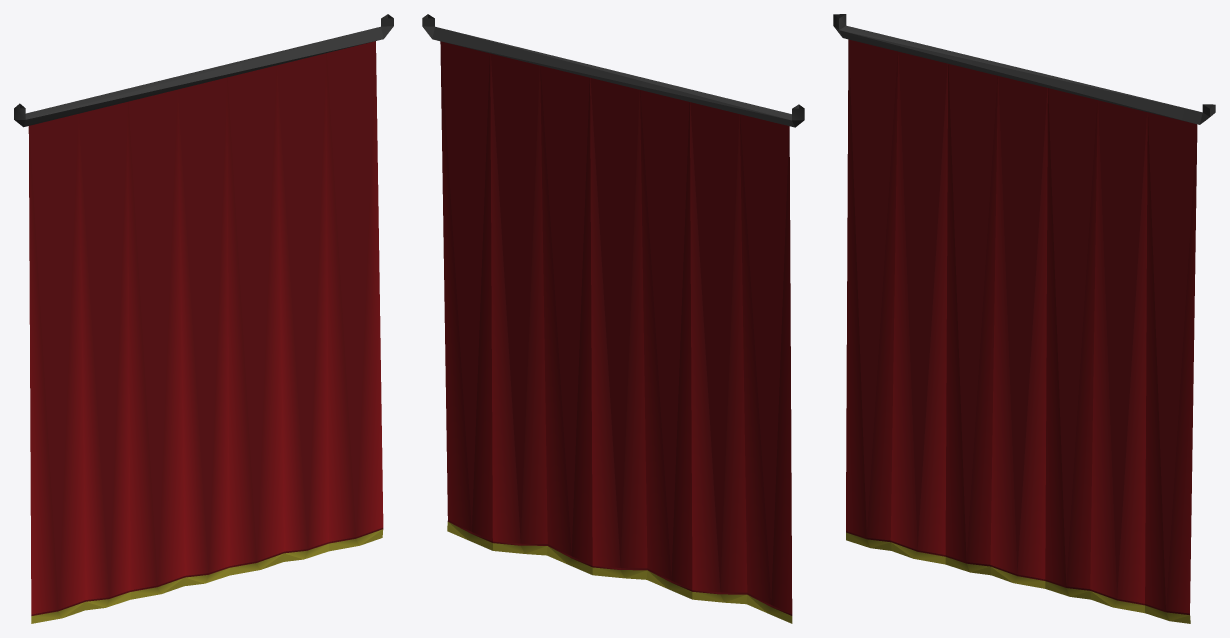
The model's file is ARC0510140.fbx.
3 renders of one model, left to right at view 1: azimuth 30°, elevation 25°; view 2: azimuth 150°, elevation 25°; view 3: azimuth 330°, elevation 25°, orthographic.
Parts seen in each view (by area): view 1: smARC0510140; view 2: smARC0510140; view 3: smARC0510140.
Boxes of the visible parts, x1,y1,x2,y2 form: smARC0510140: (14,14,393,623); smARC0510140: (422,14,804,623); smARC0510140: (833,14,1215,623).
Bounding box in the file's own units: 167 × 219 × 8.29.
